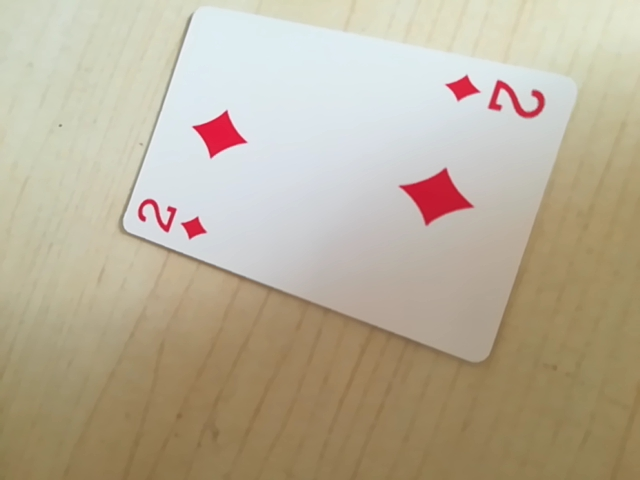fk 2: (440, 69, 550, 124), (129, 190, 216, 246)
